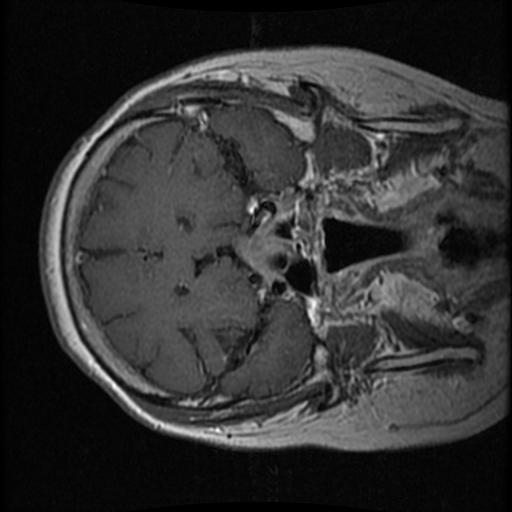pituitary tumour: (232, 217, 295, 281)
